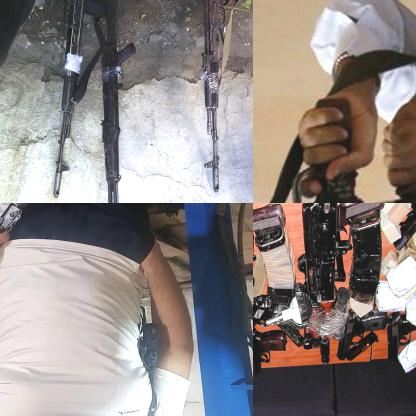pistol: (335, 310, 388, 364), (253, 327, 289, 382), (393, 203, 415, 254)
rifle: (253, 109, 415, 202), (306, 203, 385, 368), (95, 0, 139, 202), (0, 203, 59, 347), (45, 0, 87, 202), (198, 0, 228, 202), (253, 203, 286, 364)
